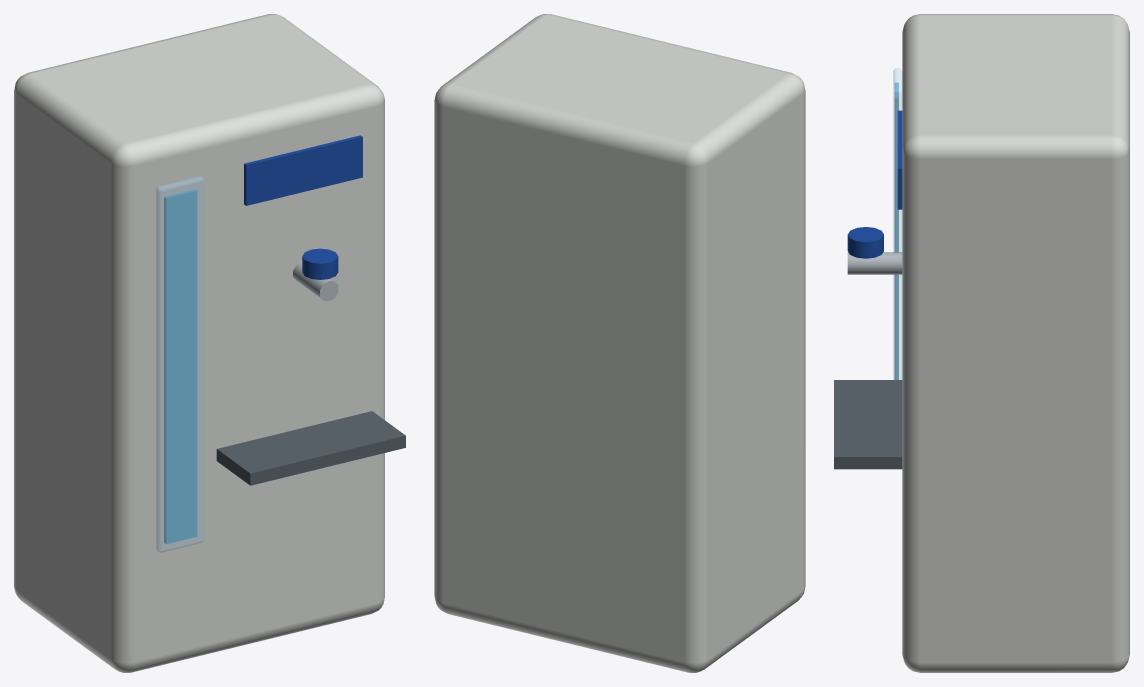
Rendered from drinking-water-station.glb.
The picture shows the model from 3 angles, left to right: view 1: azimuth 30°, elevation 25°; view 2: azimuth 150°, elevation 25°; view 3: azimuth 270°, elevation 25°; orthographic projection.
Parts seen in each view (by area): view 1: drinking-water-station-hull-white, drinking-water-station-glass, level_bar, drinking-water-station-dark-steel, drinking-water-station-nasa-blue, tap-nasa-blue, tap-aluminium; view 2: drinking-water-station-hull-white; view 3: drinking-water-station-hull-white, drinking-water-station-dark-steel, drinking-water-station-glass, level_bar, tap-aluminium, tap-nasa-blue, drinking-water-station-nasa-blue.
Part boxes in pixels (left/top/right/bottom): drinking-water-station-hull-white: left=14, top=14, right=384, bottom=672; drinking-water-station-glass: left=156, top=176, right=203, bottom=552; level_bar: left=164, top=189, right=197, bottom=544; drinking-water-station-dark-steel: left=216, top=411, right=405, bottom=485; drinking-water-station-nasa-blue: left=244, top=135, right=362, bottom=205; tap-nasa-blue: left=302, top=248, right=338, bottom=279; tap-aluminium: left=293, top=261, right=338, bottom=301; drinking-water-station-hull-white: left=434, top=14, right=805, bottom=672; drinking-water-station-hull-white: left=902, top=14, right=1129, bottom=672; drinking-water-station-dark-steel: left=834, top=380, right=902, bottom=469; drinking-water-station-glass: left=893, top=68, right=901, bottom=379; level_bar: left=894, top=82, right=898, bottom=379; tap-aluminium: left=847, top=252, right=902, bottom=274; tap-nasa-blue: left=847, top=227, right=883, bottom=258; drinking-water-station-nasa-blue: left=897, top=110, right=902, bottom=209.
Size of the model in its own units: 0.7 by 1.3 by 0.65.
